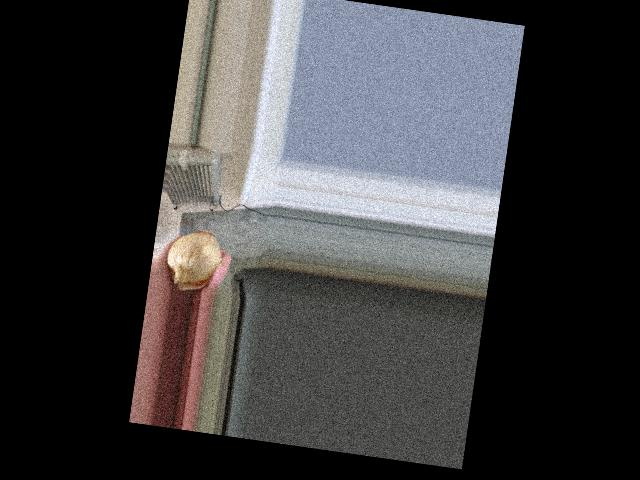onion: (160, 224, 224, 291)
